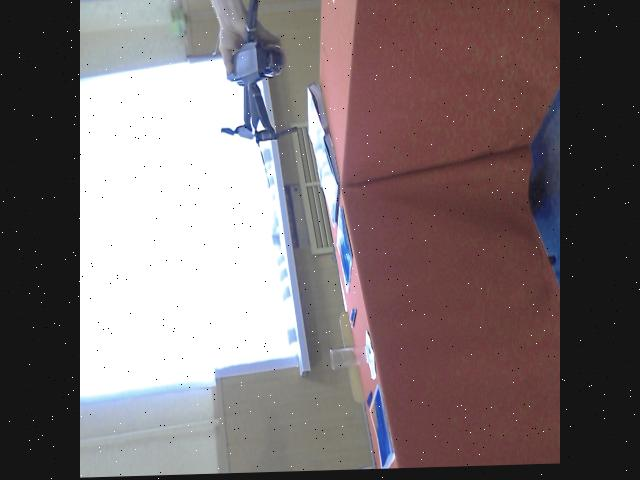drone: (208, 0, 286, 156)
